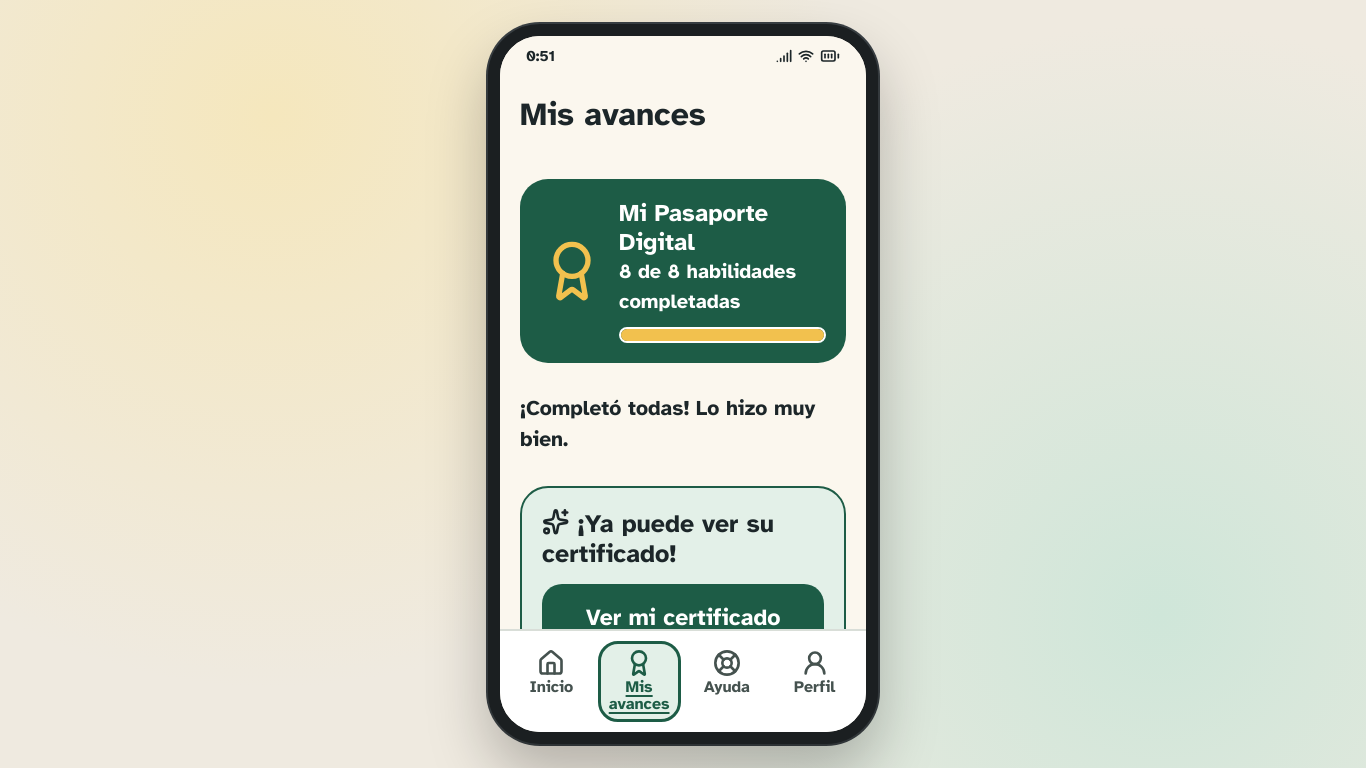
pantalla 9: Pasaporte › con las 8 completas ofrece el certificado con nombre y fecha
expect the text "¡Completó todas! Lo hizo muy bien." is shown: met, box [520,393,846,456]
Click the link "Ver mi certificado". click: (683, 618)
box: [542,584,824,652]
(page scrolled)
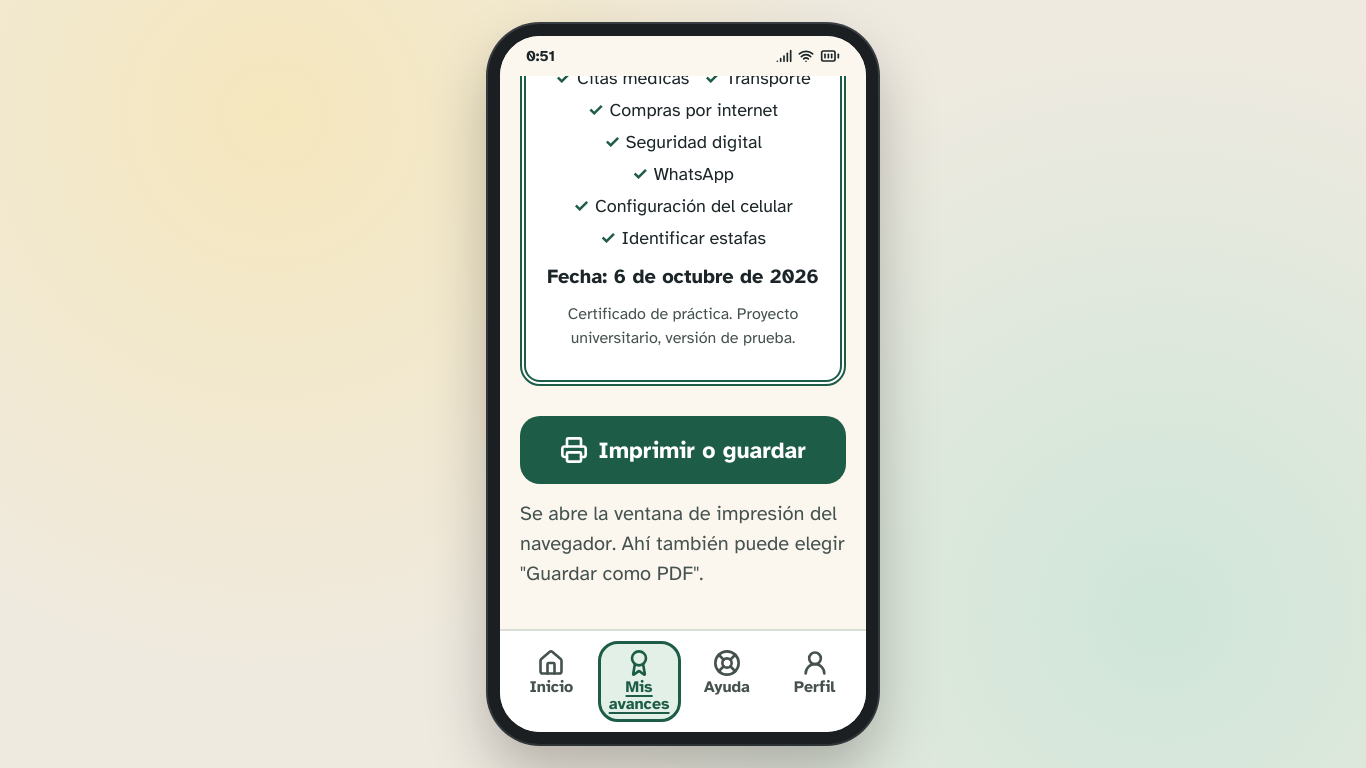
expect the text "Fecha: 6 de octubre de 2026" is shown: met, box [547,262,819,292]
expect the button "Imprimir o guardar" is shown: met, box [520,416,846,484]
